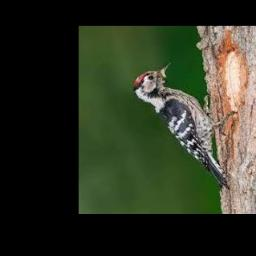Woodpecker: (132, 63, 237, 188)
